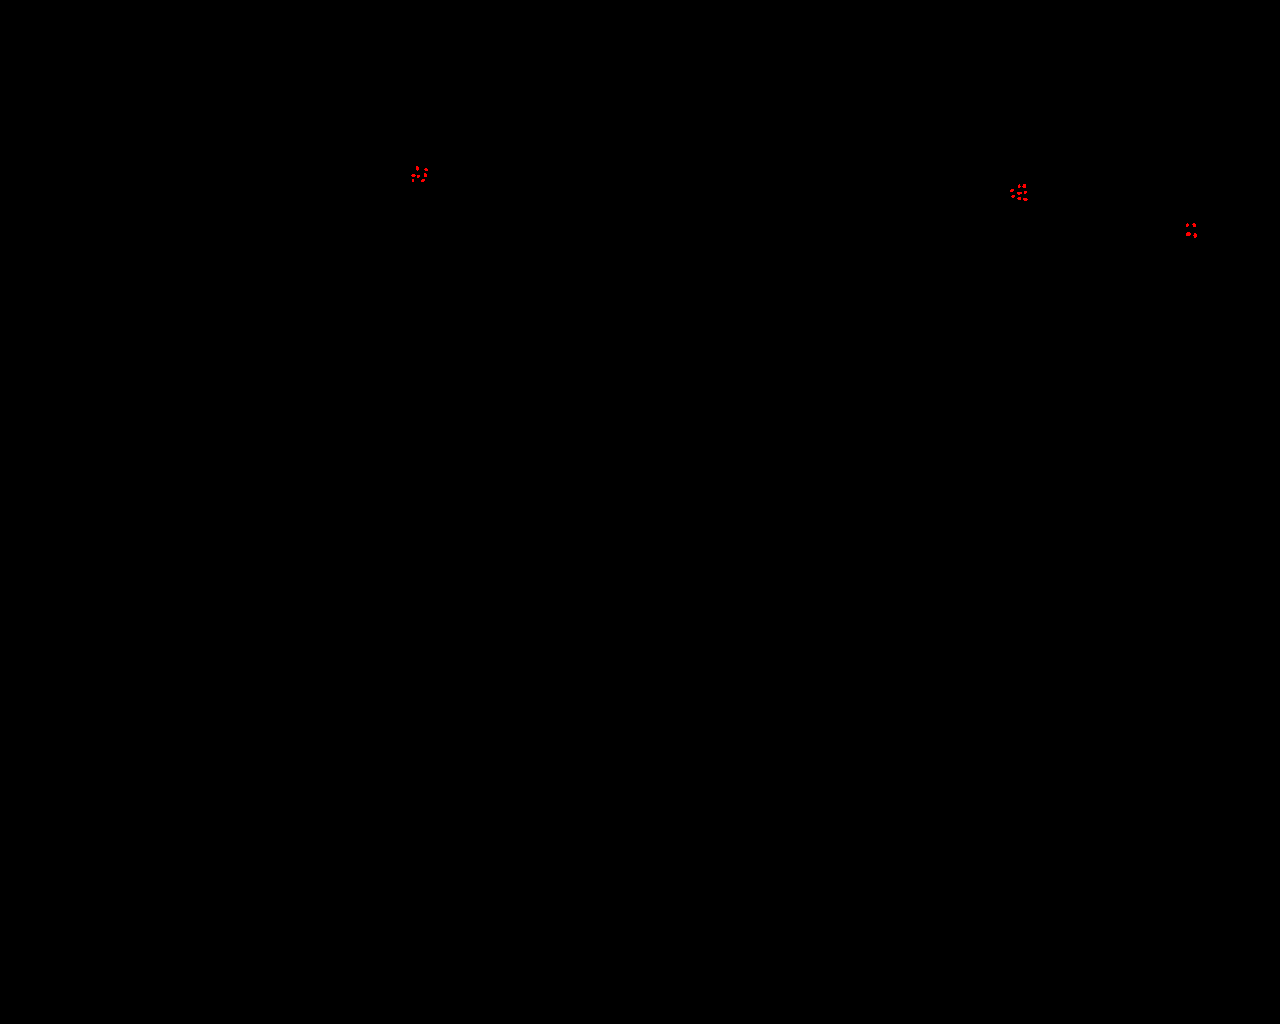Target: (1186, 232, 1191, 236), (1193, 233, 1197, 238), (1022, 184, 1026, 188), (1192, 223, 1196, 227), (416, 166, 419, 171), (1017, 192, 1022, 195), (1023, 197, 1028, 201), (424, 168, 428, 171), (421, 179, 425, 182), (1018, 184, 1021, 188), (1186, 223, 1189, 227), (411, 174, 416, 177), (424, 173, 427, 177), (417, 174, 420, 178), (1010, 189, 1014, 192), (1024, 191, 1027, 194), (1017, 197, 1021, 200), (412, 179, 414, 182), (1011, 195, 1015, 197)
